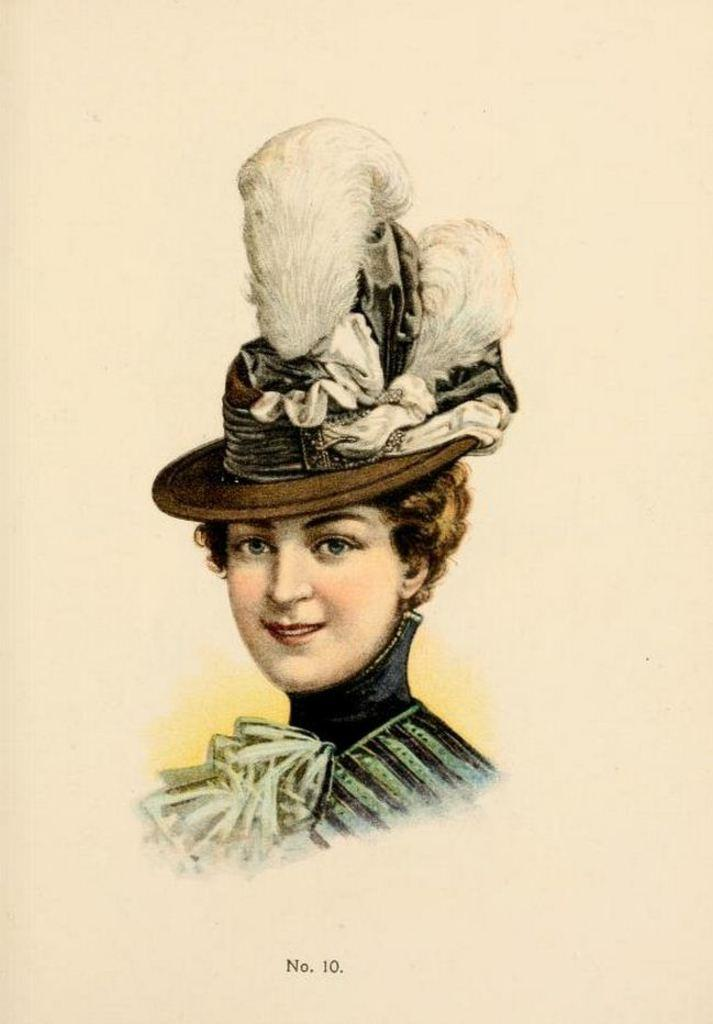Hat: (153, 120, 519, 524)
